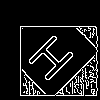H: (25, 25, 84, 84)
